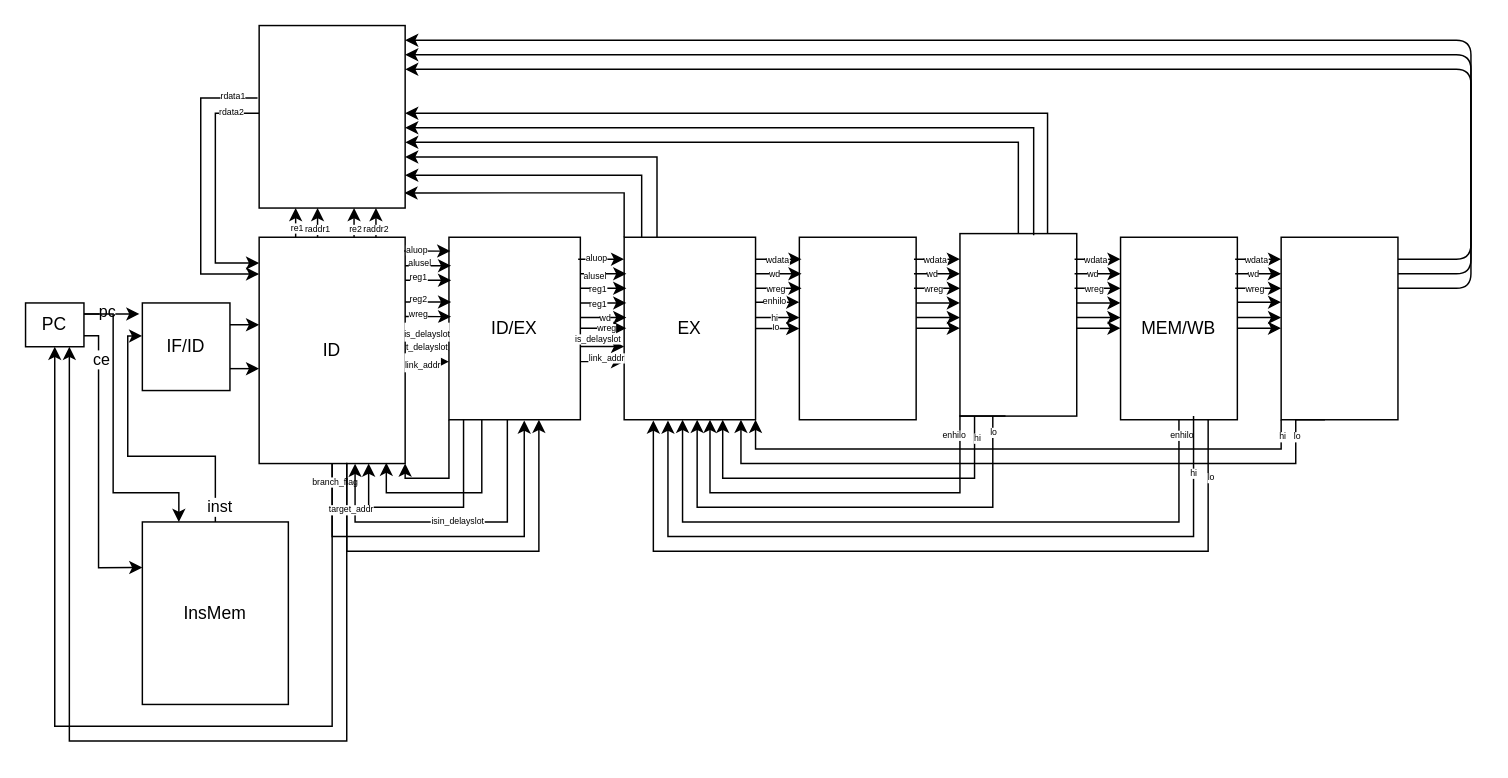
This 1508x778 diagram has some shape labels left out. The shapes that lost their labels are listed below. From the top down, each one's centre as x and y in pixels, then its label:
At point (331, 116): "RegFile".
At point (857, 328): "EX/MEM".
At point (1017, 324): "MEM".
At point (1339, 328): "HILO".
